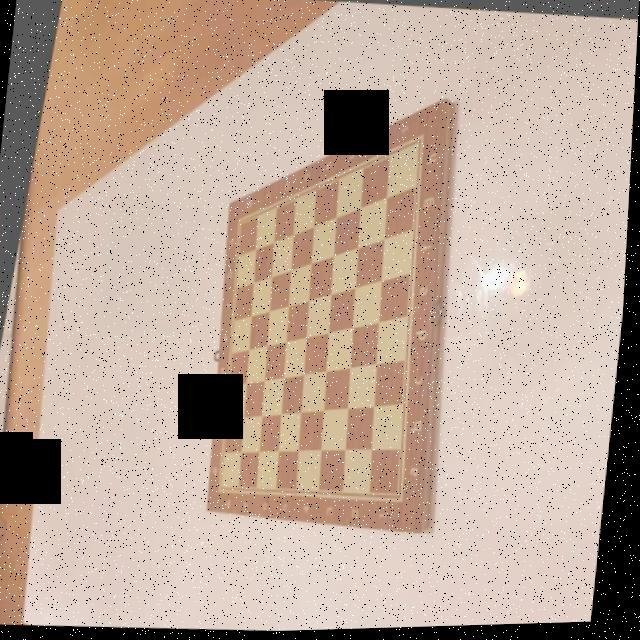chess-table-corners: (408, 129, 422, 144), (398, 491, 412, 506), (218, 480, 230, 496), (232, 214, 243, 228)
